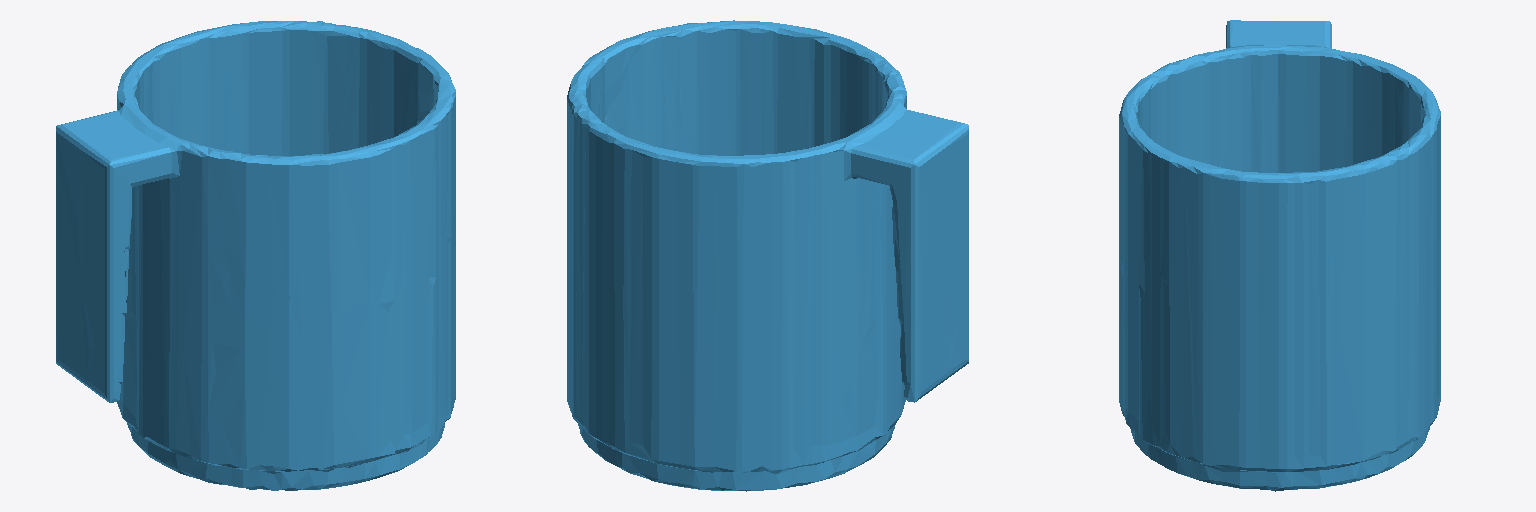
robot.urdf — Mug_159e56c18906830278d8f8c02c47cde0_S:
<?xml version="1.0"?>
<robot name="Mug_159e56c18906830278d8f8c02c47cde0_S">
  <link name="base"/>
  <link name="link_0">
  <visual>
    <origin xyz="0.0 0.0 0.0"/>
    <geometry>
      <mesh filename="Mug_159e56c18906830278d8f8c02c47cde0_S.obj" scale="1.0 1.0 1.0"/>
    </geometry>
  </visual>
  <collision>
    <origin xyz="0.0 0.0 0.0"/>
    <geometry>
      <mesh filename="collision.obj" scale="1.0 1.0 1.0"/>
    </geometry>
  </collision>
  </link>
  <joint name="joint_0" type="fixed">
    <origin rpy="0 0 0" xyz="0 0 0"/>
    <child link="link_0"/>
    <parent link="base"/>
  </joint>
</robot>

--- Facts derived from the render (not from the file) ---
Views: 3 orthographic renders of the robot side by side, from view 1: azimuth 30°, elevation 25°; view 2: azimuth 150°, elevation 25°; view 3: azimuth 270°, elevation 25°.
Robot: Mug_159e56c18906830278d8f8c02c47cde0_S — 2 links, 1 joints (1 fixed); root link base; default pose: all joints at 0.
Visible links, largest first — view 1: link_0; view 2: link_0; view 3: link_0.
Link boxes in pixels (x1,y1,x2,y2): link_0: [56, 21, 455, 490]; link_0: [567, 20, 968, 491]; link_0: [1119, 20, 1440, 491].
Bounding box of the posed robot: 0.0809 × 0.0673 × 0.0737 m (x, y, z).
1 mesh visuals loaded from 1 distinct referenced files (1 OBJ).